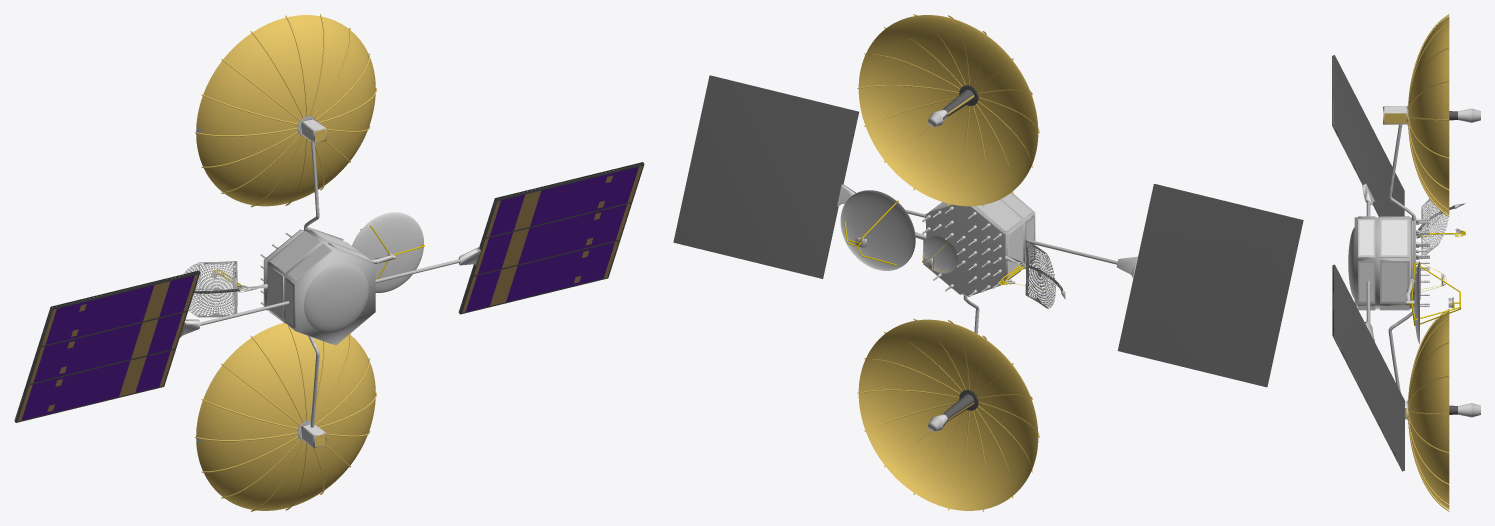
The model's file is TDRS-Comp.fbx.
3 views of the same model, side by side, from view 1: azimuth 30°, elevation 25°; view 2: azimuth 150°, elevation 25°; view 3: azimuth 270°, elevation 25° (orthographic). The views are drawn at different scales.
Visible parts, largest first — view 1: imagetostl_mesh0; view 2: imagetostl_mesh0; view 3: imagetostl_mesh0.
Boxes of the visible parts, x1,y1,x2,y2 form: imagetostl_mesh0: [14, 14, 644, 511]; imagetostl_mesh0: [673, 14, 1303, 511]; imagetostl_mesh0: [1332, 14, 1480, 511].
Size of the model in its own units: 78.39 by 62.63 by 17.63.
